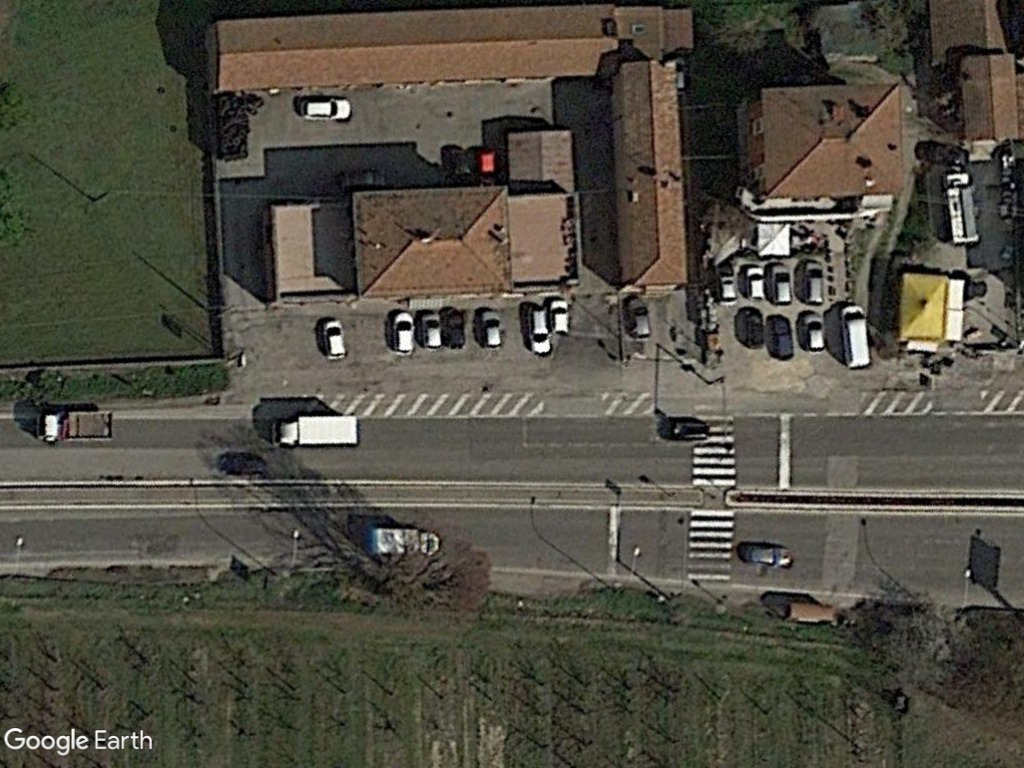car: (735, 538, 797, 572), (293, 94, 356, 125), (799, 256, 830, 311), (525, 302, 553, 359), (797, 308, 829, 356), (318, 315, 349, 364), (623, 294, 654, 343), (767, 313, 798, 362), (389, 308, 418, 360), (769, 261, 796, 310), (476, 308, 506, 350), (741, 262, 769, 306), (713, 263, 738, 308), (548, 294, 570, 340), (421, 309, 442, 352)
other: (938, 168, 985, 251)
truck: (266, 410, 365, 452), (33, 407, 119, 447)
van: (838, 302, 874, 372)
